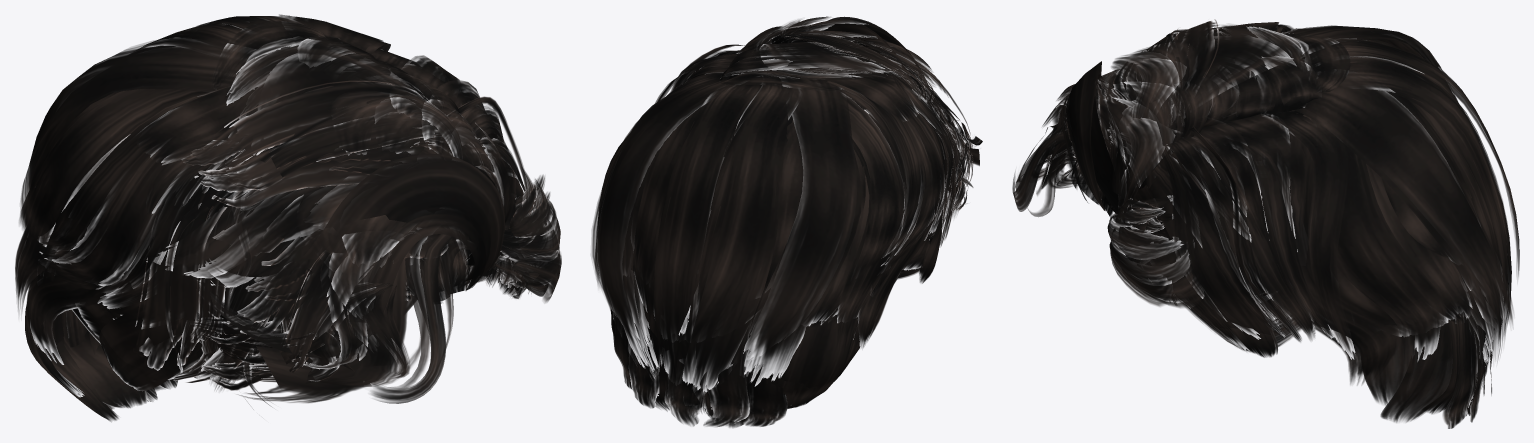
The model's file is Oblong_Wavy_TaperFade.glb.
The picture shows the model from 3 angles, left to right: view 1: azimuth 30°, elevation 25°; view 2: azimuth 150°, elevation 25°; view 3: azimuth 270°, elevation 25°; orthographic projection. The views are drawn at different scales.
Parts seen in each view (by area): view 1: SIDE SWEPT - CurlyFront; view 2: SIDE SWEPT - CurlyFront; view 3: SIDE SWEPT - CurlyFront.
Boxes of the visible parts, <box> form: SIDE SWEPT - CurlyFront: <box>15,14,561,421</box>; SIDE SWEPT - CurlyFront: <box>591,16,982,427</box>; SIDE SWEPT - CurlyFront: <box>1012,19,1519,428</box>.
Bounding box in the file's own units: 0.18 × 0.1735 × 0.2317.
Materials: 1 (1 with a texture image).
